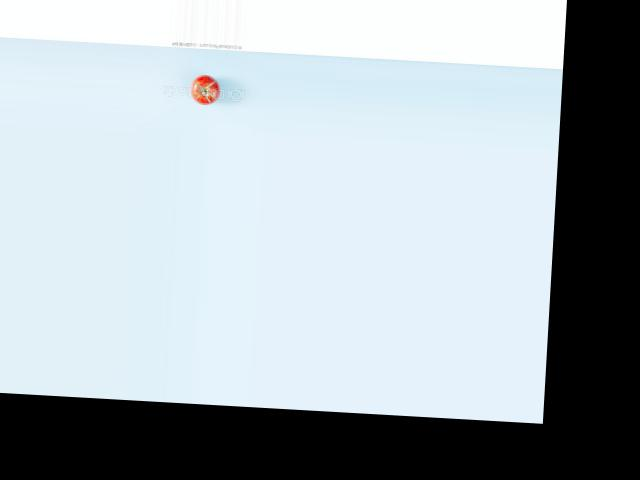tomato: (190, 73, 220, 105)
